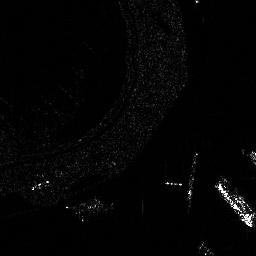ship: (216, 181, 254, 229)
